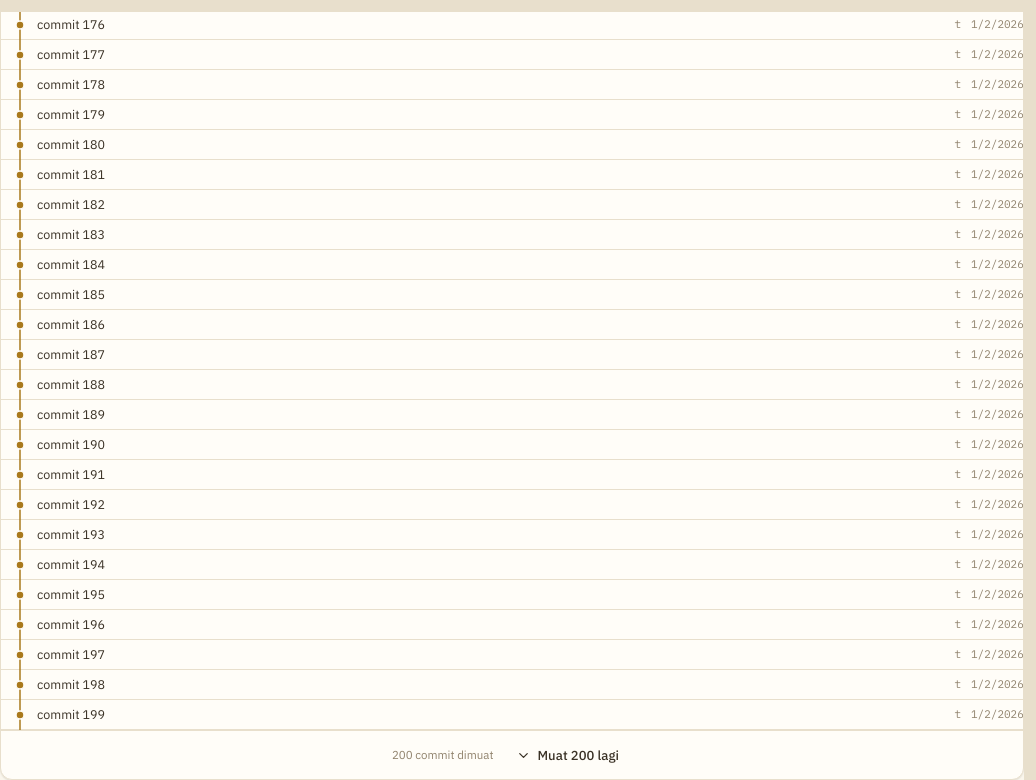
Test: GitGraph — jendela commit berhalaman (SPEC-351) › muat lebih meminta halaman berikutnya (limit 400) dan merender commit lama
(page scrolled)
Click the text "Muat 200 lagi" at (578, 755), box [538,748,619,762]
(page scrolled)
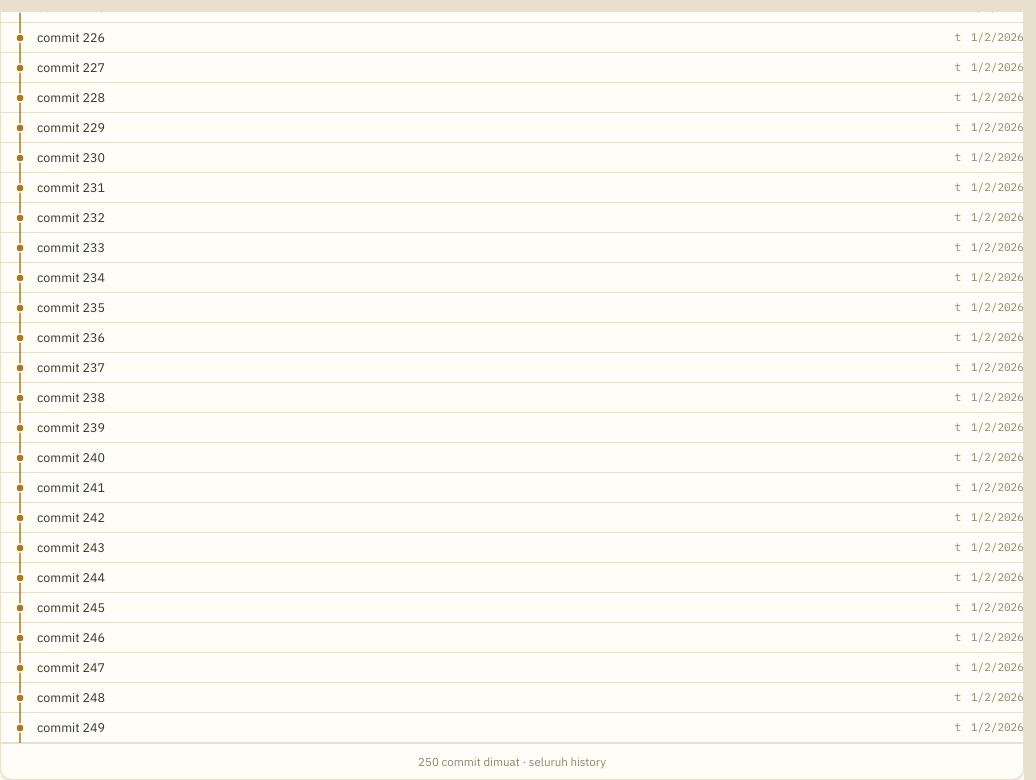
Expected: the text "commit 249" is shown, [37,718,105,737]
Expected: the text "250 commit dimuat · seluruh history" is shown, [418,753,606,770]
Expected: the button "Muat 200 lagi" is gone
